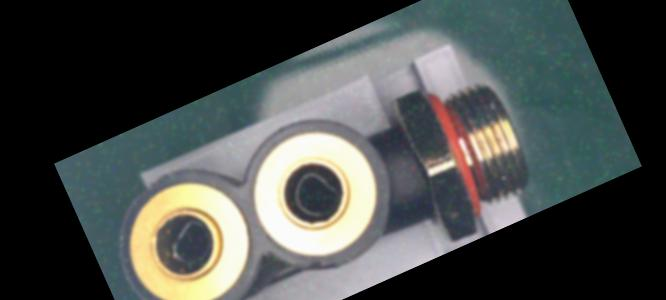bump: (301, 251, 343, 280), (135, 173, 172, 198)
off-centered: (159, 214, 224, 275), (283, 162, 346, 224)
white mark: (391, 149, 413, 171)
